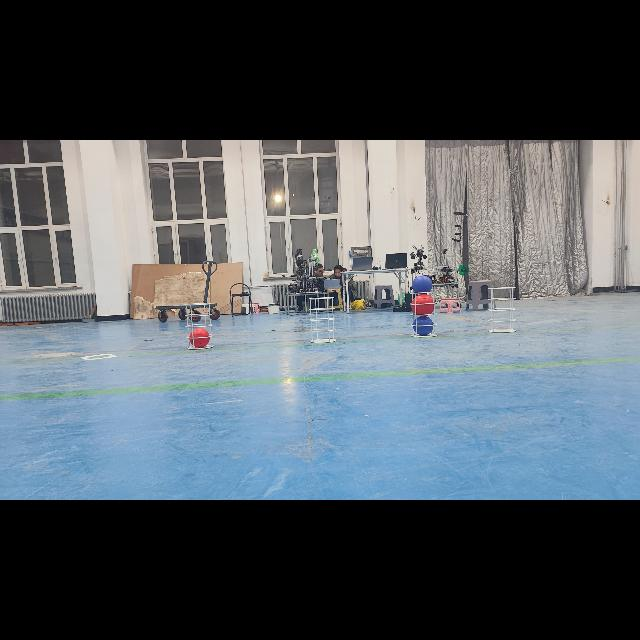B: (412, 275, 432, 295), (413, 315, 433, 335)
R: (413, 294, 435, 316), (190, 328, 210, 348)
S: (181, 302, 221, 352), (484, 284, 520, 334), (304, 296, 340, 346), (408, 289, 442, 339)
